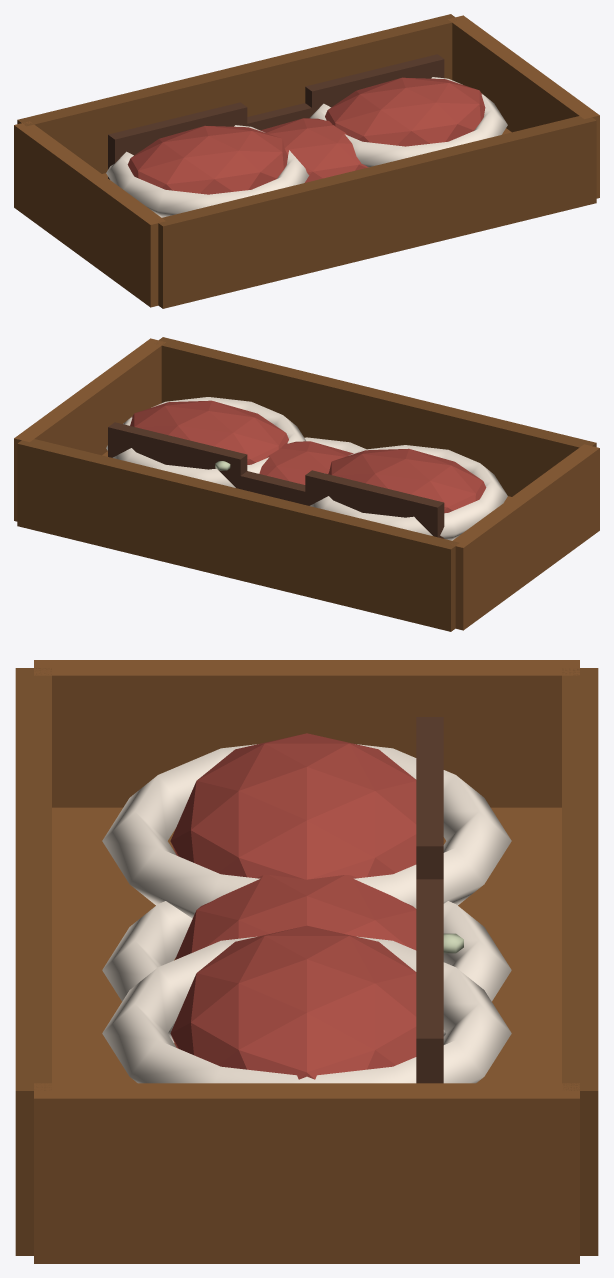
File: Meat_Boar.fbx
3 views of the same model, one above another, from view 1: azimuth 30°, elevation 25°; view 2: azimuth 150°, elevation 25°; view 3: azimuth 270°, elevation 25° (orthographic). The views are drawn at different scales.
Visible parts, largest first — view 1: Meat_Boar__Stack, Meat_Boar; view 2: Meat_Boar__Stack, Meat_Boar; view 3: Meat_Boar__Stack, Meat_Boar.
Part boxes in pixels (left/top/right/bottom): Meat_Boar__Stack: left=14, top=14, right=599, bottom=308; Meat_Boar: left=240, top=103, right=368, bottom=182; Meat_Boar__Stack: left=14, top=337, right=599, bottom=631; Meat_Boar: left=206, top=437, right=365, bottom=505; Meat_Boar__Stack: left=15, top=660, right=598, bottom=1263; Meat_Boar: left=102, top=875, right=511, bottom=1042.
Size of the model in its own units: 0.228 by 0.044 by 0.128.
